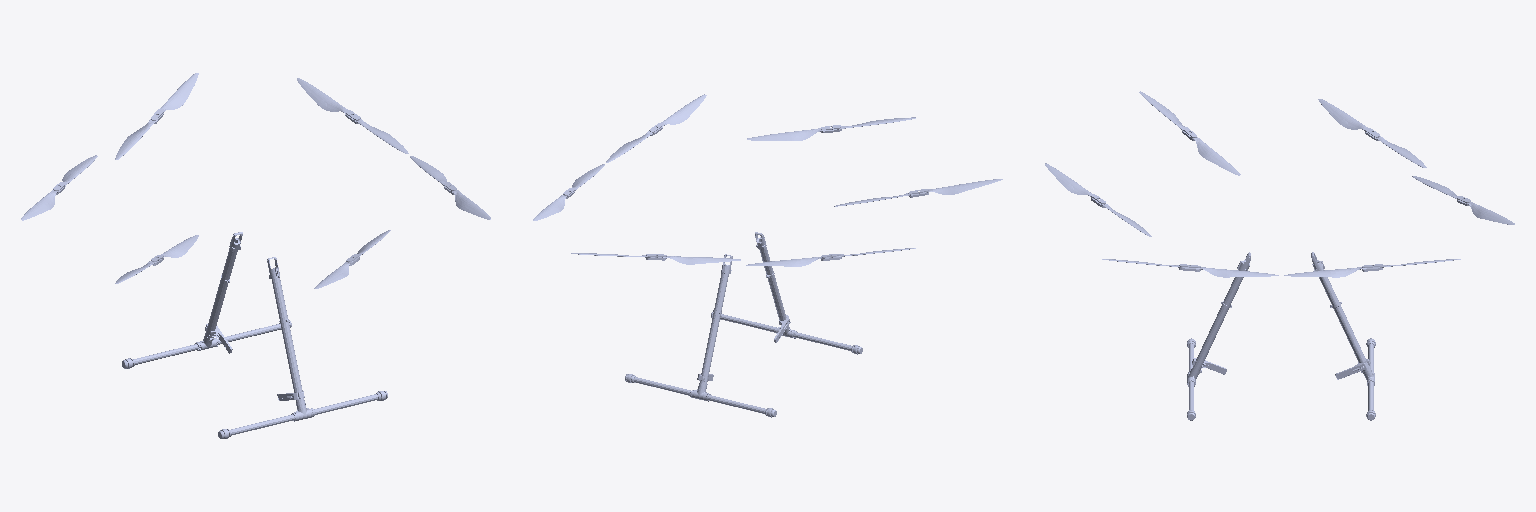
The robot description file, URDF, robot "M600URDF":
<?xml version="1.0" encoding="utf-8"?>
<!-- This URDF was automatically created by SolidWorks to URDF Exporter! Originally created by Stephen Brawner ([email redacted]) 
     Commit Version: 1.6.0-4-g7f85cfe  Build Version: 1.6.7995.38578
     For more information, please see http://wiki.ros.org/sw_urdf_exporter -->
<robot
  name="M600URDF">
  <link
    name="base_link">
    <inertial>
      <origin
        xyz="-0.00320693911724421 0.00169815104393978 -0.0221841191666093"
        rpy="0 0 0" />
      <mass
        value="1.07072098870815" />
      <inertia
        ixx="0.00252591451978805"
        ixy="-1.82101741563284E-07"
        ixz="-1.47309400166745E-07"
        iyy="0.00275873931863483"
        iyz="4.17697637533596E-08"
        izz="0.00498886349895843" />
    </inertial>
    <visual>
      <origin
        xyz="0 0 0"
        rpy="0 0 0" />
      <geometry>
        <mesh
          filename="package://M600URDF/meshes/base_link.STL" />
      </geometry>
      <material
        name="">
        <color
          rgba="0.792156862745098 0.819607843137255 0.933333333333333 1" />
      </material>
    </visual>
    <collision>
      <origin
        xyz="0 0 0"
        rpy="0 0 0" />
      <geometry>
        <mesh
          filename="package://M600URDF/meshes/base_link.STL" />
      </geometry>
    </collision>
  </link>
  <link
    name="Motor1_front_left_link">
    <inertial>
      <origin
        xyz="0.006488 0.0076815 -0.070942"
        rpy="0 0 0" />
      <mass
        value="0.11399" />
      <inertia
        ixx="0.00019871"
        ixy="0.00025974"
        ixz="-4.6197E-06"
        iyy="0.00036739"
        iyz="3.2887E-06"
        izz="0.00056352" />
    </inertial>
    <visual>
      <origin
        xyz="0 0 0"
        rpy="0 0 0" />
      <geometry>
        <mesh
          filename="package://M600URDF/meshes/Motor1_front_left_link.STL" />
      </geometry>
      <material
        name="">
        <color
          rgba="0.79216 0.81961 0.93333 1" />
      </material>
    </visual>
    <collision>
      <origin
        xyz="0 0 0"
        rpy="0 0 0" />
      <geometry>
        <mesh
          filename="package://M600URDF/meshes/Motor1_front_left_link.STL" />
      </geometry>
    </collision>
  </link>
  <joint
    name="Motor1_front_left_joint"
    type="continuous">
    <origin
      xyz="0.50036 0.2886 0.012238"
      rpy="-3.0753 0.11027 -2.1217" />
    <parent
      link="base_link" />
    <child
      link="Motor1_front_left_link" />
    <axis
      xyz="0 0 1" />
    <limit
      effort="100"
      velocity="420" />
    <dynamics
      damping="0.1"
      friction="0.1" />
  </joint>
  <link
    name="Motor2_front_right_link">
    <inertial>
      <origin
        xyz="0.0009063 -4.0514E-06 0.072036"
        rpy="0 0 0" />
      <mass
        value="0.056995" />
      <inertia
        ixx="8.9919E-05"
        ixy="-0.00012681"
        ixz="2.4293E-06"
        iyy="0.00019314"
        iyz="1.6056E-06"
        izz="0.00028176" />
    </inertial>
    <visual>
      <origin
        xyz="0 0 0"
        rpy="0 0 0" />
      <geometry>
        <mesh
          filename="package://M600URDF/meshes/Motor2_front_right_link.STL" />
      </geometry>
      <material
        name="">
        <color
          rgba="0.79216 0.81961 0.93333 1" />
      </material>
    </visual>
    <collision>
      <origin
        xyz="0 0 0"
        rpy="0 0 0" />
      <geometry>
        <mesh
          filename="package://M600URDF/meshes/Motor2_front_right_link.STL" />
      </geometry>
    </collision>
  </link>
  <joint
    name="Motor2_front_right_joint"
    type="continuous">
    <origin
      xyz="0.50048 -0.28877 0.011225"
      rpy="0.13742 0.012088 -2.2723" />
    <parent
      link="base_link" />
    <child
      link="Motor2_front_right_link" />
    <axis
      xyz="0 0 1" />
    <limit
      effort="100"
      velocity="420" />
    <dynamics
      damping="0.1"
      friction="0.1" />
  </joint>
  <link
    name="Motor3_mid_left_link">
    <inertial>
      <origin
        xyz="-5.8592E-06 -4.0553E-06 0.038325"
        rpy="0 0 0" />
      <mass
        value="0.056995" />
      <inertia
        ixx="9.0324E-05"
        ixy="-0.00012699"
        ixz="2.4373E-11"
        iyy="0.0001927"
        iyz="1.3739E-10"
        izz="0.00028179" />
    </inertial>
    <visual>
      <origin
        xyz="0 0 0"
        rpy="0 0 0" />
      <geometry>
        <mesh
          filename="package://M600URDF/meshes/Motor3_mid_left_link.STL" />
      </geometry>
      <material
        name="">
        <color
          rgba="0.79216 0.81961 0.93333 1" />
      </material>
    </visual>
    <collision>
      <origin
        xyz="0 0 0"
        rpy="0 0 0" />
      <geometry>
        <mesh
          filename="package://M600URDF/meshes/Motor3_mid_left_link.STL" />
      </geometry>
    </collision>
  </link>
  <joint
    name="Motor3_mid_left_joint"
    type="continuous">
    <origin
      xyz="0.00040889 0.57269 0.044614"
      rpy="0.13963 0 0" />
    <parent
      link="base_link" />
    <child
      link="Motor3_mid_left_link" />
    <axis
      xyz="0 0 1" />
    <limit
      effort="100"
      velocity="420" />
    <dynamics
      damping="0.1"
      friction="0.1" />
  </joint>
  <link
    name="Motor4_mid_right_link">
    <inertial>
      <origin
        xyz="-0.0055796 -0.0076877 -0.050635"
        rpy="0 0 0" />
      <mass
        value="0.11399" />
      <inertia
        ixx="0.00019862"
        ixy="0.00025976"
        ixz="-2.4438E-10"
        iyy="0.00036742"
        iyz="6.3124E-11"
        izz="0.00056358" />
    </inertial>
    <visual>
      <origin
        xyz="0 0 0"
        rpy="0 0 0" />
      <geometry>
        <mesh
          filename="package://M600URDF/meshes/Motor4_mid_right_link.STL" />
      </geometry>
      <material
        name="">
        <color
          rgba="0.79216 0.81961 0.93333 1" />
      </material>
    </visual>
    <collision>
      <origin
        xyz="0 0 0"
        rpy="0 0 0" />
      <geometry>
        <mesh
          filename="package://M600URDF/meshes/Motor4_mid_right_link.STL" />
      </geometry>
    </collision>
  </link>
  <joint
    name="Motor4_mid_right_joint"
    type="continuous">
    <origin
      xyz="0.00040889 -0.57451 0.032423"
      rpy="3.002 0 0" />
    <parent
      link="base_link" />
    <child
      link="Motor4_mid_right_link" />
    <axis
      xyz="0 0 1" />
    <limit
      effort="100"
      velocity="420" />
    <dynamics
      damping="0.1"
      friction="0.1" />
  </joint>
  <link
    name="Motor5_rear_left_link">
    <inertial>
      <origin
        xyz="-0.0039236 0.008651 -0.045018"
        rpy="0 0 0" />
      <mass
        value="0.11399" />
      <inertia
        ixx="0.00010297"
        ixy="-0.00020537"
        ixz="4.1347E-11"
        iyy="0.00046308"
        iyz="-6.8031E-10"
        izz="0.00056358" />
    </inertial>
    <visual>
      <origin
        xyz="0 0 0"
        rpy="0 0 0" />
      <geometry>
        <mesh
          filename="package://M600URDF/meshes/Motor5_rear_left_link.STL" />
      </geometry>
      <material
        name="">
        <color
          rgba="0.79216 0.81961 0.93333 1" />
      </material>
    </visual>
    <collision>
      <origin
        xyz="0 0 0"
        rpy="0 0 0" />
      <geometry>
        <mesh
          filename="package://M600URDF/meshes/Motor5_rear_left_link.STL" />
      </geometry>
    </collision>
  </link>
  <joint
    name="Motor5_rear_left_joint"
    type="continuous">
    <origin
      xyz="-0.49641 0.28679 0.037986"
      rpy="3.002 0 -2.0944" />
    <parent
      link="base_link" />
    <child
      link="Motor5_rear_left_link" />
    <axis
      xyz="0 0 1" />
    <limit
      effort="100"
      velocity="420" />
    <dynamics
      damping="0.1"
      friction="0.1" />
  </joint>
  <link
    name="Motor6_rear_right_link">
    <inertial>
      <origin
        xyz="-3.3933E-06 -2.3943E-06 0.038702"
        rpy="0 0 0" />
      <mass
        value="0.056994" />
      <inertia
        ixx="8.9059E-05"
        ixy="-0.00012648"
        ixz="-3.4413E-11"
        iyy="0.00019396"
        iyz="6.1704E-11"
        izz="0.00028179" />
    </inertial>
    <visual>
      <origin
        xyz="0 0 0"
        rpy="0 0 0" />
      <geometry>
        <mesh
          filename="package://M600URDF/meshes/Motor6_rear_right_link.STL" />
      </geometry>
      <material
        name="">
        <color
          rgba="0.79216 0.81961 0.93333 1" />
      </material>
    </visual>
    <collision>
      <origin
        xyz="0 0 0"
        rpy="0 0 0" />
      <geometry>
        <mesh
          filename="package://M600URDF/meshes/Motor6_rear_right_link.STL" />
      </geometry>
    </collision>
  </link>
  <joint
    name="Motor6_rear_right_joint"
    type="continuous">
    <origin
      xyz="-0.49565 -0.28645 0.04424"
      rpy="0.070669 -0.12052 3.1331" />
    <parent
      link="base_link" />
    <child
      link="Motor6_rear_right_link" />
    <axis
      xyz="0 0 1" />
    <limit
      effort="100"
      velocity="420" />
    <dynamics
      damping="0.1"
      friction="0.1" />
  </joint>
  <link
    name="LG_left_link">
    <inertial>
      <origin
        xyz="0.12212 -0.33864 -0.017257"
        rpy="0 0 0" />
      <mass
        value="0.121" />
      <inertia
        ixx="0.0011624"
        ixy="0.00014898"
        ixz="7.8865E-07"
        iyy="0.00081775"
        iyz="1.5264E-07"
        izz="0.00049006" />
    </inertial>
    <visual>
      <origin
        xyz="0 0 0"
        rpy="0 0 0" />
      <geometry>
        <mesh
          filename="package://M600URDF/meshes/LG_left_link.STL" />
      </geometry>
      <material
        name="">
        <color
          rgba="0.79216 0.81961 0.93333 1" />
      </material>
    </visual>
    <collision>
      <origin
        xyz="0 0 0"
        rpy="0 0 0" />
      <geometry>
        <mesh
          filename="package://M600URDF/meshes/LG_left_link.STL" />
      </geometry>
    </collision>
  </link>
  <joint
    name="LG_left_joint"
    type="revolute">
    <origin
      xyz="0.019409 0.098608 -0.1042"
      rpy="1.5708 -0.045048 1.5708" />
    <parent
      link="base_link" />
    <child
      link="LG_left_link" />
    <axis
      xyz="0 0 1" />
    <limit
      lower="0"
      upper="1.32"
      effort="5"
      velocity="1" />
    <dynamics
      damping="0.1"
      friction="0.1" />
  </joint>
  <link
    name="LG_right_link">
    <inertial>
      <origin
        xyz="0.12212 -0.33864 0.020743"
        rpy="0 0 0" />
      <mass
        value="0.121" />
      <inertia
        ixx="0.0011624"
        ixy="0.00014898"
        ixz="7.8865E-07"
        iyy="0.00081775"
        iyz="1.5264E-07"
        izz="0.00049006" />
    </inertial>
    <visual>
      <origin
        xyz="0 0 0"
        rpy="0 0 0" />
      <geometry>
        <mesh
          filename="package://M600URDF/meshes/LG_right_link.STL" />
      </geometry>
      <material
        name="">
        <color
          rgba="0.79216 0.81961 0.93333 1" />
      </material>
    </visual>
    <collision>
      <origin
        xyz="0 0 0"
        rpy="0 0 0" />
      <geometry>
        <mesh
          filename="package://M600URDF/meshes/LG_right_link.STL" />
      </geometry>
    </collision>
  </link>
  <joint
    name="Lg_right_joint"
    type="revolute">
    <origin
      xyz="0.019409 -0.098708 -0.1042"
      rpy="1.5708 -0.045048 -1.5708" />
    <parent
      link="base_link" />
    <child
      link="LG_right_link" />
    <axis
      xyz="0 0 1" />
    <limit
      lower="0"
      upper="1.32"
      effort="5"
      velocity="1" />
    <dynamics
      damping="0.1"
      friction="0.1" />
  </joint>
</robot>

--- Render facts (derived) ---
Views: 3 orthographic renders of the robot side by side, from view 1: azimuth 30°, elevation 25°; view 2: azimuth 150°, elevation 25°; view 3: azimuth 270°, elevation 25°.
Robot: M600URDF — 9 links, 8 joints (2 revolute, 6 continuous); root link base_link; default pose: all joints at 0.
Links seen in each view (by area): view 1: LG_right_link, LG_left_link, Motor1_front_left_link, Motor3_mid_left_link, Motor2_front_right_link, Motor5_rear_left_link, Motor6_rear_right_link, Motor4_mid_right_link; view 2: LG_left_link, LG_right_link, Motor4_mid_right_link, Motor2_front_right_link, Motor6_rear_right_link, Motor1_front_left_link, Motor3_mid_left_link, Motor5_rear_left_link; view 3: LG_left_link, LG_right_link, Motor5_rear_left_link, Motor6_rear_right_link, Motor4_mid_right_link, Motor3_mid_left_link, Motor1_front_left_link, Motor2_front_right_link.
Boxes of the visible links, x1,y1,x2,y2 form: LG_right_link: (218, 257, 387, 438); LG_left_link: (122, 232, 291, 368); Motor1_front_left_link: (297, 78, 408, 153); Motor3_mid_left_link: (115, 73, 198, 159); Motor2_front_right_link: (410, 156, 490, 219); Motor5_rear_left_link: (21, 155, 97, 220); Motor6_rear_right_link: (115, 235, 198, 283); Motor4_mid_right_link: (314, 230, 390, 288); LG_left_link: (625, 254, 776, 417); LG_right_link: (711, 232, 862, 354); Motor4_mid_right_link: (747, 117, 915, 140); Motor2_front_right_link: (606, 94, 706, 162); Motor6_rear_right_link: (834, 179, 1002, 206); Motor1_front_left_link: (533, 164, 604, 220); Motor3_mid_left_link: (571, 253, 740, 264); Motor5_rear_left_link: (746, 248, 915, 266); LG_left_link: (1311, 252, 1375, 420); LG_right_link: (1187, 252, 1250, 420); Motor5_rear_left_link: (1318, 99, 1426, 167); Motor6_rear_right_link: (1139, 91, 1240, 175); Motor4_mid_right_link: (1045, 163, 1151, 236); Motor3_mid_left_link: (1412, 176, 1514, 224); Motor1_front_left_link: (1284, 259, 1460, 277); Motor2_front_right_link: (1102, 259, 1278, 277).
Bounding box of the posed robot: 1.26 × 1.46 × 0.6674 m (x, y, z).
Meshes: 9 distinct files referenced, 8 mesh visuals loaded (8 binary STL); not drawn: 1 (reference not matched to a file when rendering).
